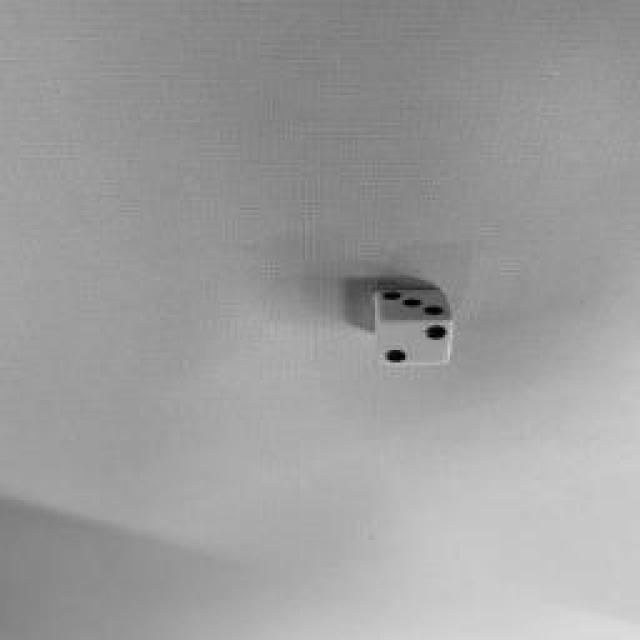dice_2: (376, 320, 454, 365)
